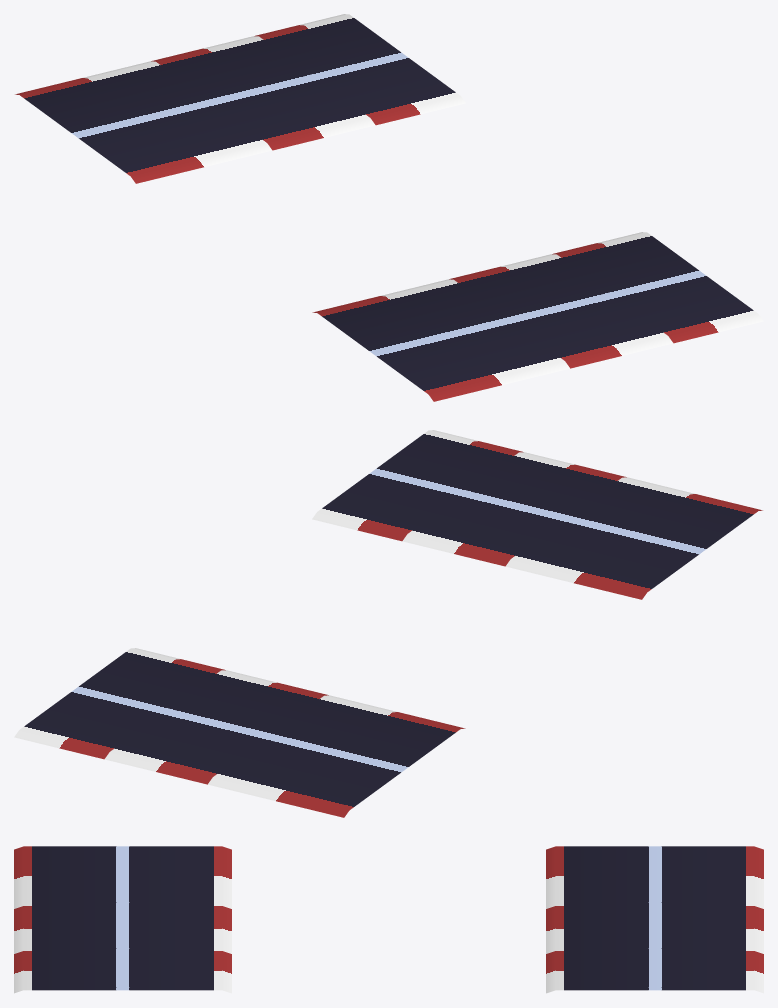
File: centro pista.glb
3 views of the same model, one above another, from view 1: azimuth 30°, elevation 25°; view 2: azimuth 150°, elevation 25°; view 3: azimuth 270°, elevation 25° (orthographic). The views are drawn at different scales.
Parts seen in each view (by area): view 1: regular centro pista.001; view 2: regular centro pista.001; view 3: regular centro pista.001.
Part boxes in pixels (x1,y1,x2,y2): regular centro pista.001: (15,14,763,401); regular centro pista.001: (14,430,762,817); regular centro pista.001: (14,846,763,993).
Bounding box in the file's own units: 64 × 0.65 × 141.
Materials: 1 (1 with a texture image).
